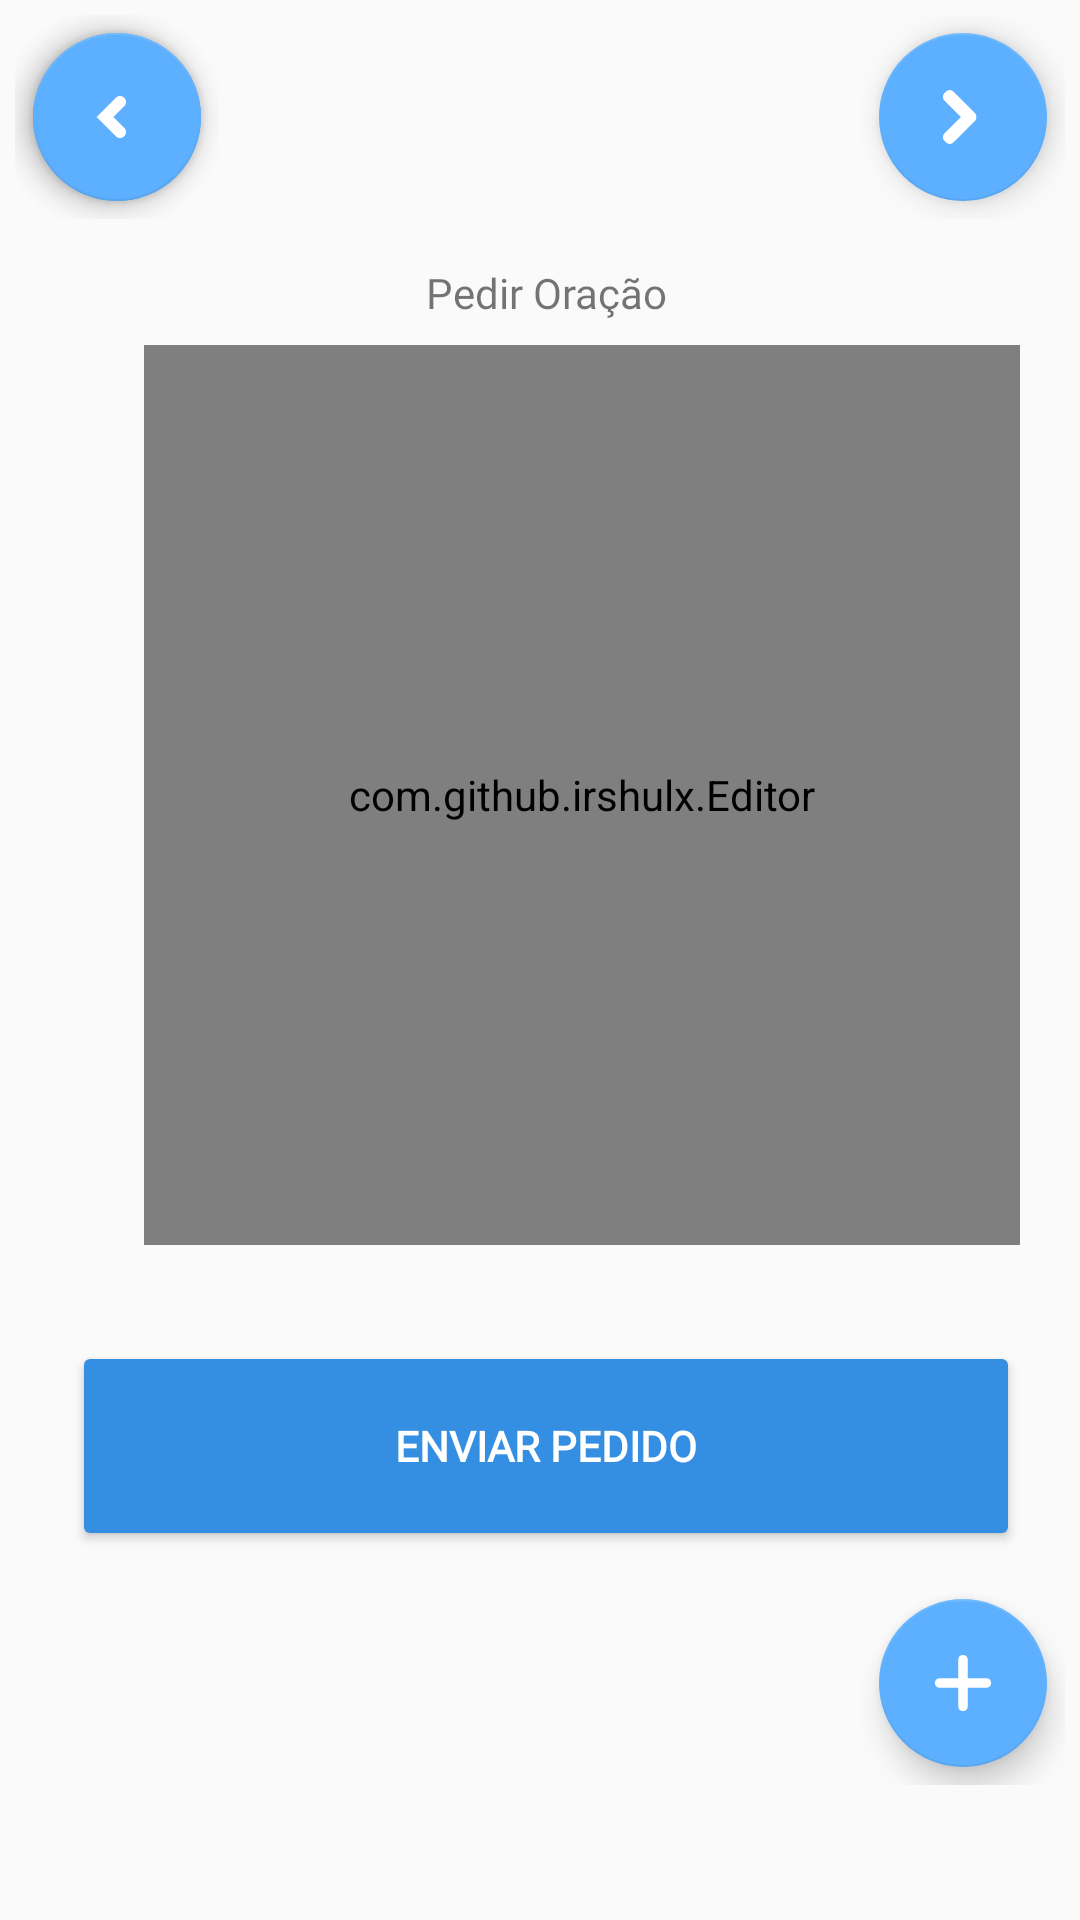

Locate icon controls on the screen. Image size 1080 × 1920, boxes as (x1, y1, x2, y2).
Adicionar: (879, 1599, 1047, 1767)
Próximo: (879, 33, 1047, 201)
